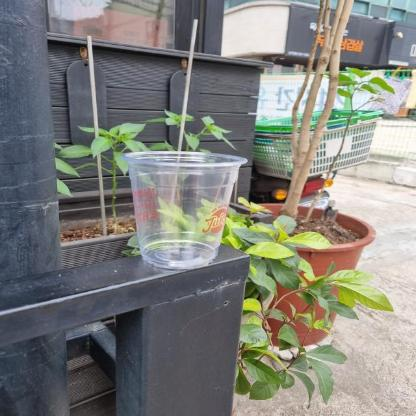Plastic Cup: (124, 152, 248, 274)
